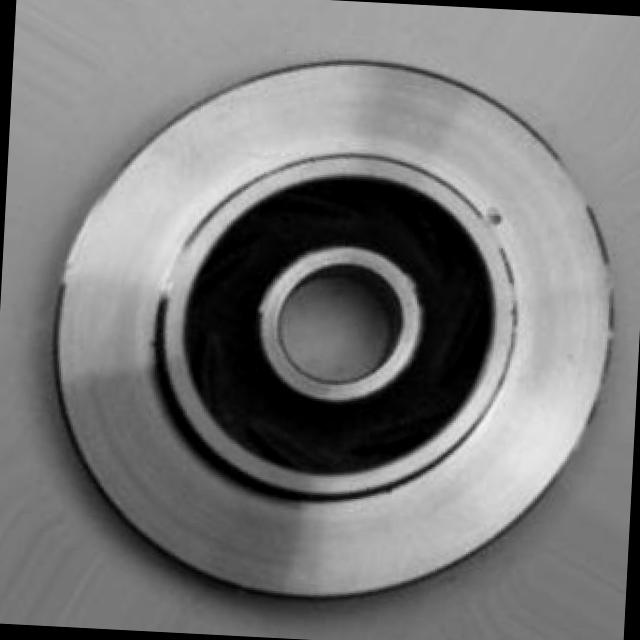Defect: (484, 203, 514, 240)
